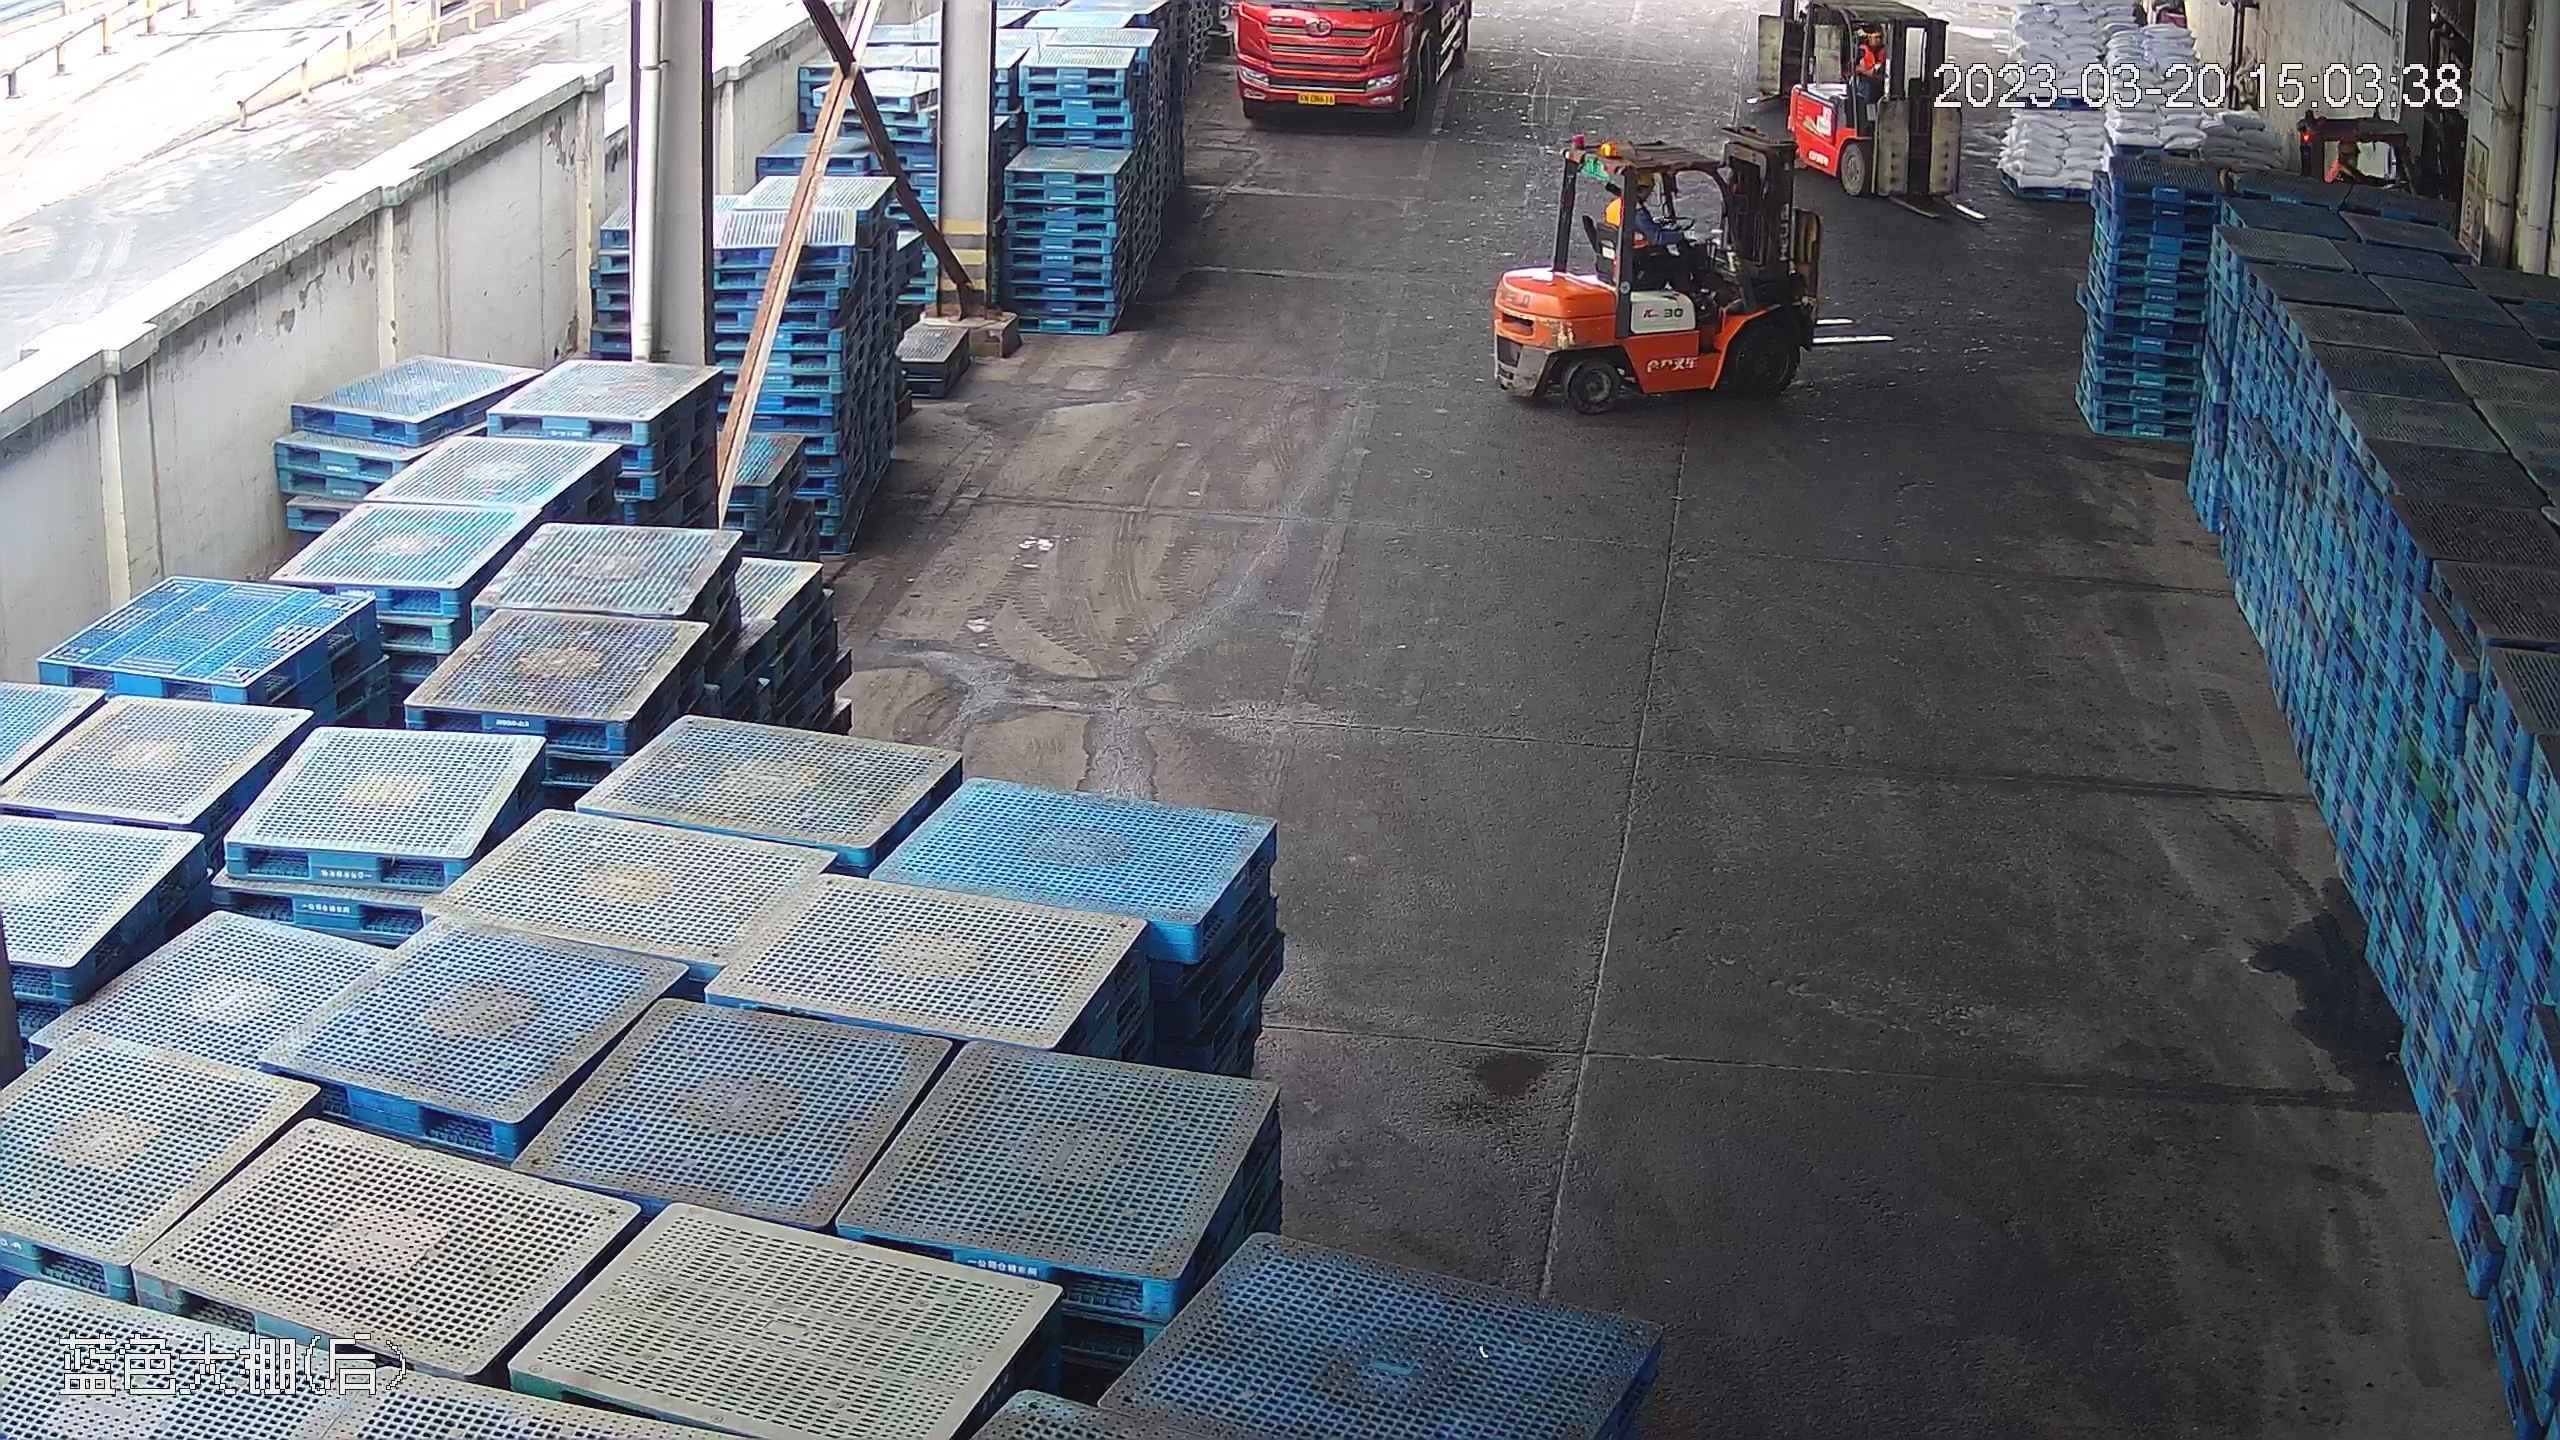helmet: (1635, 171, 1656, 188)
truck: (1225, 4, 1479, 125)
